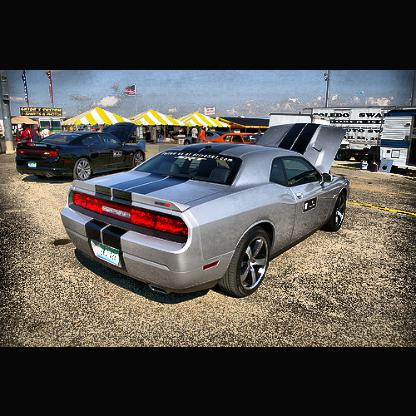Dodge Challenger SRT8 2011: (63, 125, 350, 298)
